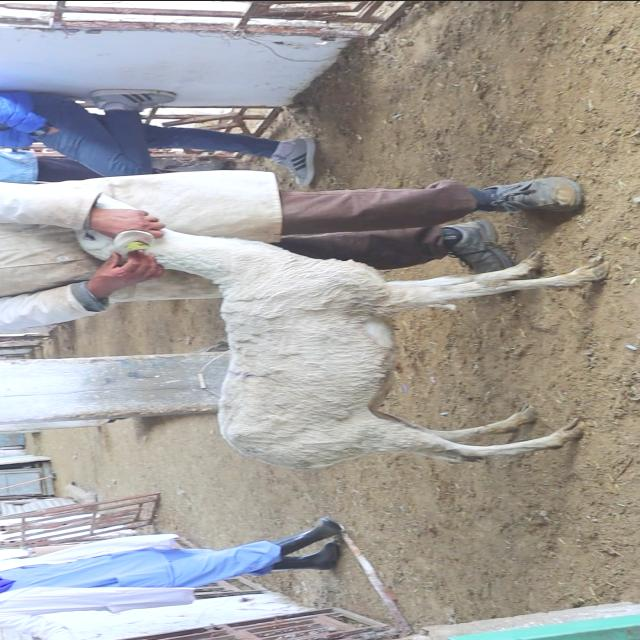Score_1: (76, 228, 607, 469)
